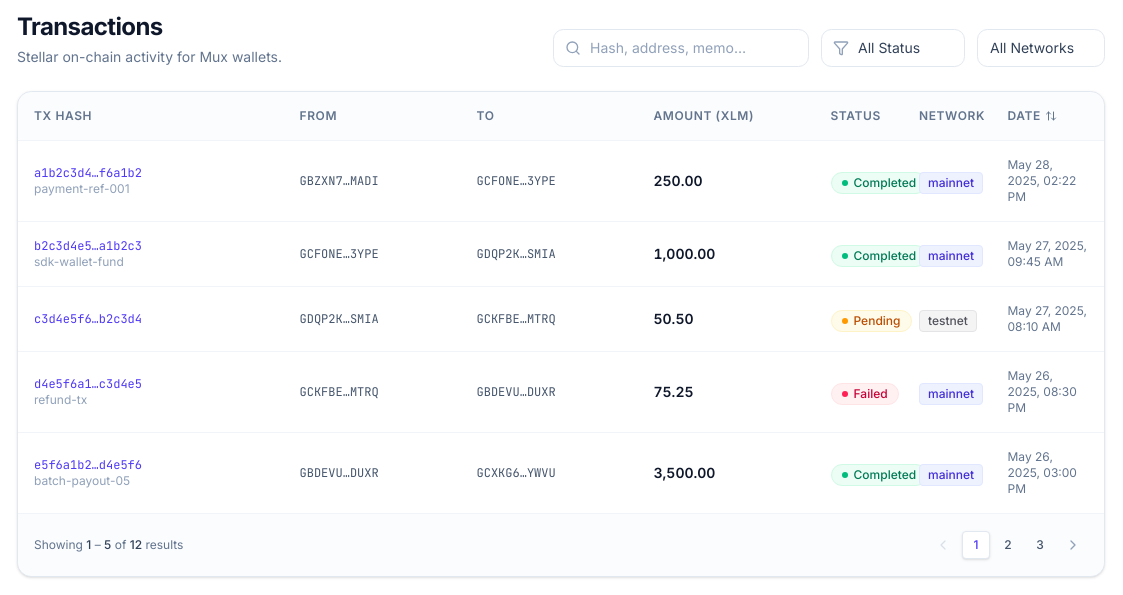
Scenario: TransactionsTable › filters by search query
This screenshot has width=1123, height=595.
Type "payment-ref" into the field with placeholder "Hash, address, memo…".
click(681, 48); type("payment-ref")  # box [553,29,809,67]
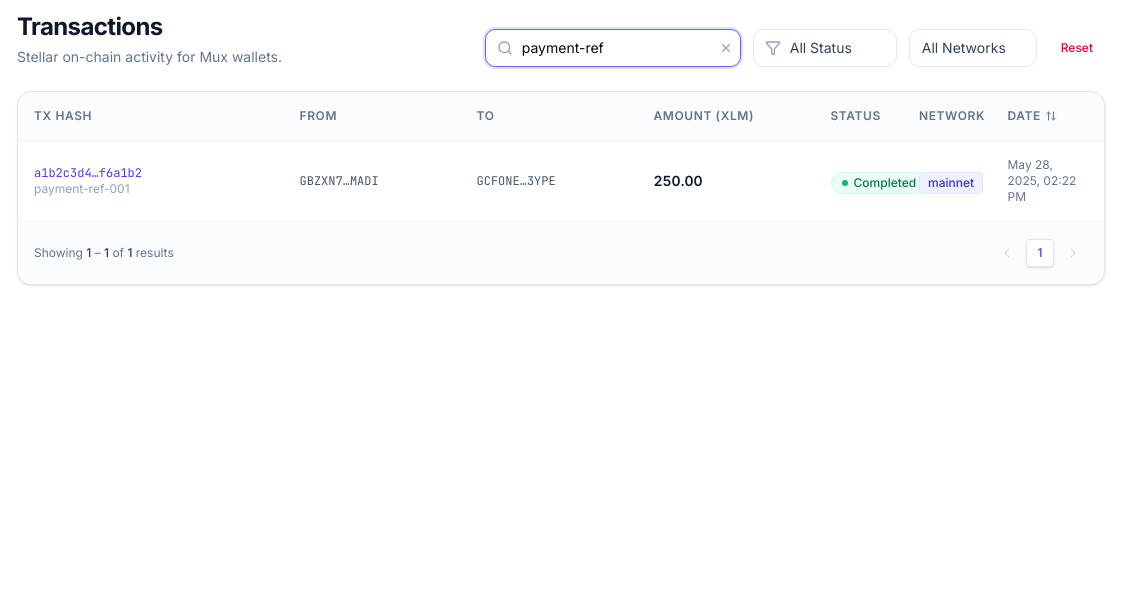
Expected: the text "250.00" is shown, [654,172,703,189]
Expected: the text "1,000.00" is gone
